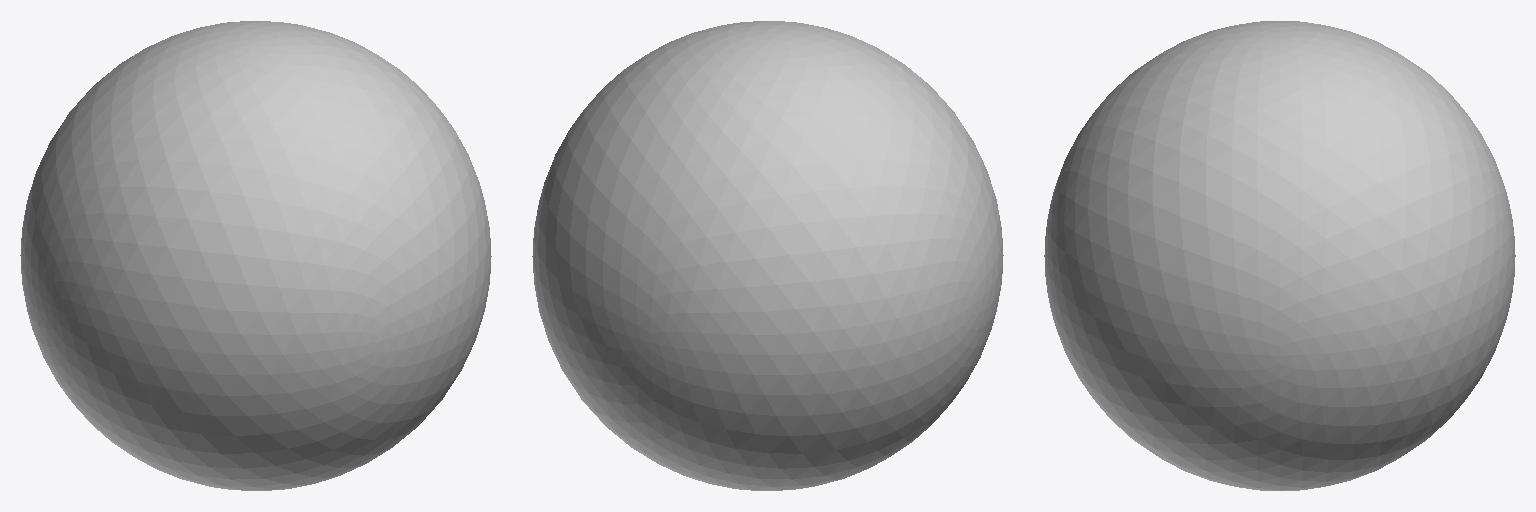
Rendered from sphere-reptile.obj.
3 views of the same model, side by side, from view 1: azimuth 30°, elevation 25°; view 2: azimuth 150°, elevation 25°; view 3: azimuth 270°, elevation 25° (orthographic).
Size of the model in its own units: 2 by 2 by 2.